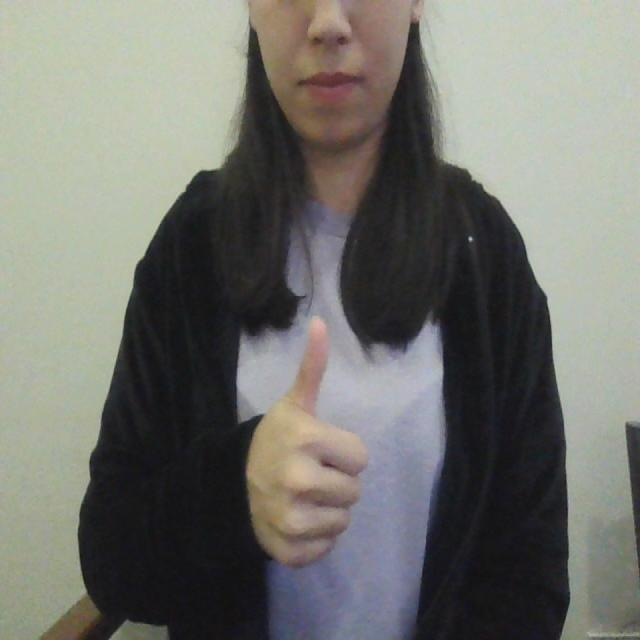Tamam: (232, 307, 378, 573)
